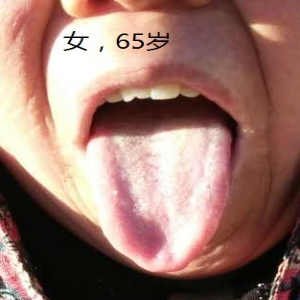st: (78, 142, 239, 275)
